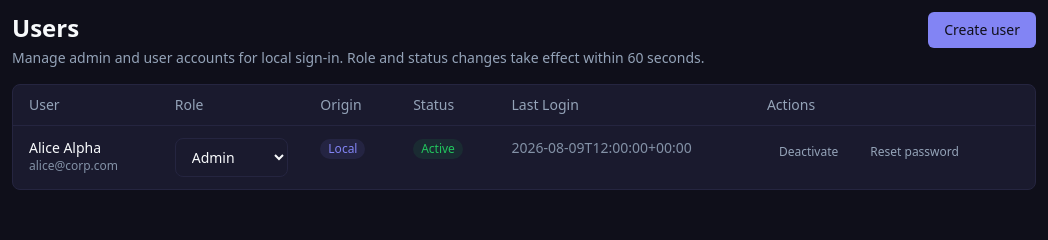
AdminUsersPage — role-change flow › a last-admin 409 from a role-change attempt renders inline in the row and reverts the select
Expected: the text "Alice Alpha" is shown, [29,138,101,157]
Select "User" in the dropdown named "Role" at (232, 158), box [175,138,288,177]
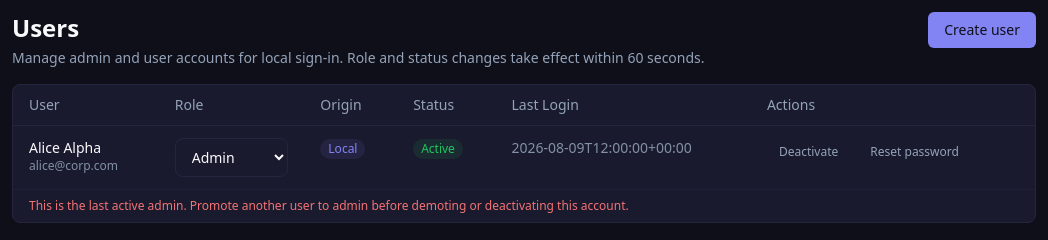
Expected: the message shows "This is the last active admin", [29,197,629,214]
